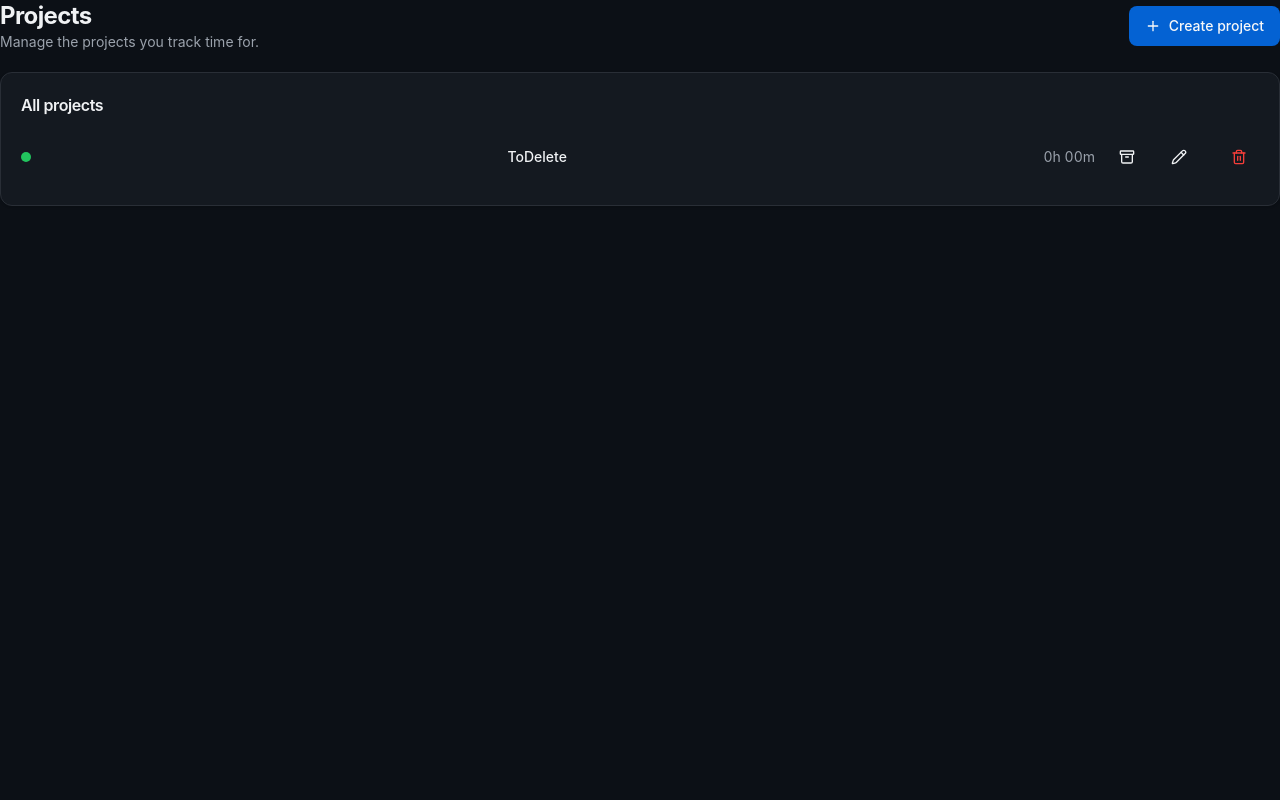
it: ProjectsPage › opens confirm delete dialog when trash button is clicked
Expected: the button "ToDelete" is shown, [43,137,1032,177]
Click the button named "delete todelete": (1239, 157) [1219,137,1259,177]
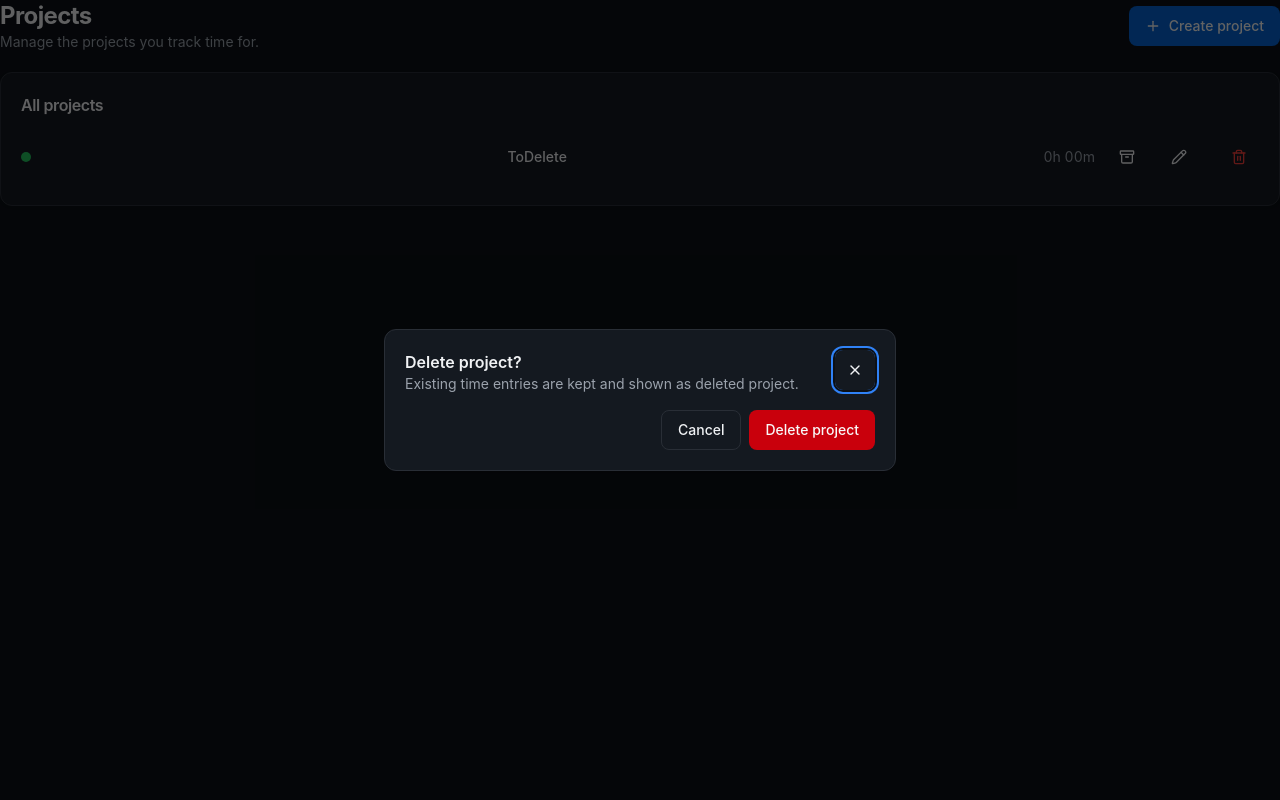
Result: the heading "Delete project?" is shown at [405,352,522,372]
